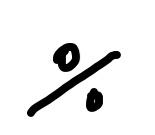div: (23, 45, 120, 115)
